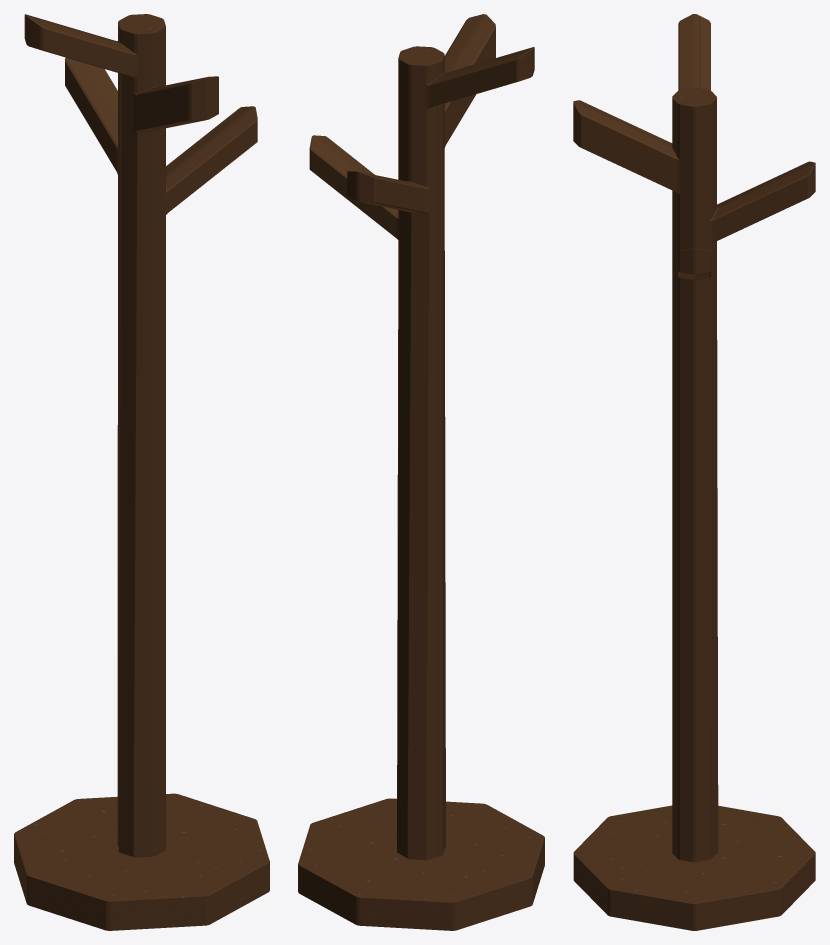
Rendered from hatStand.fbx.
3 renders of one model, left to right at view 1: azimuth 30°, elevation 25°; view 2: azimuth 150°, elevation 25°; view 3: azimuth 270°, elevation 25°, orthographic. The views are drawn at different scales.
Parts seen in each view (by area): view 1: Cylinder; view 2: Cylinder; view 3: Cylinder.
Boxes of the visible parts, left/top/right/bottom form: Cylinder: left=14, top=14, right=269, bottom=930; Cylinder: left=298, top=14, right=544, bottom=930; Cylinder: left=573, top=14, right=815, bottom=930.
Size of the model in its own units: 199 by 739 by 199.
